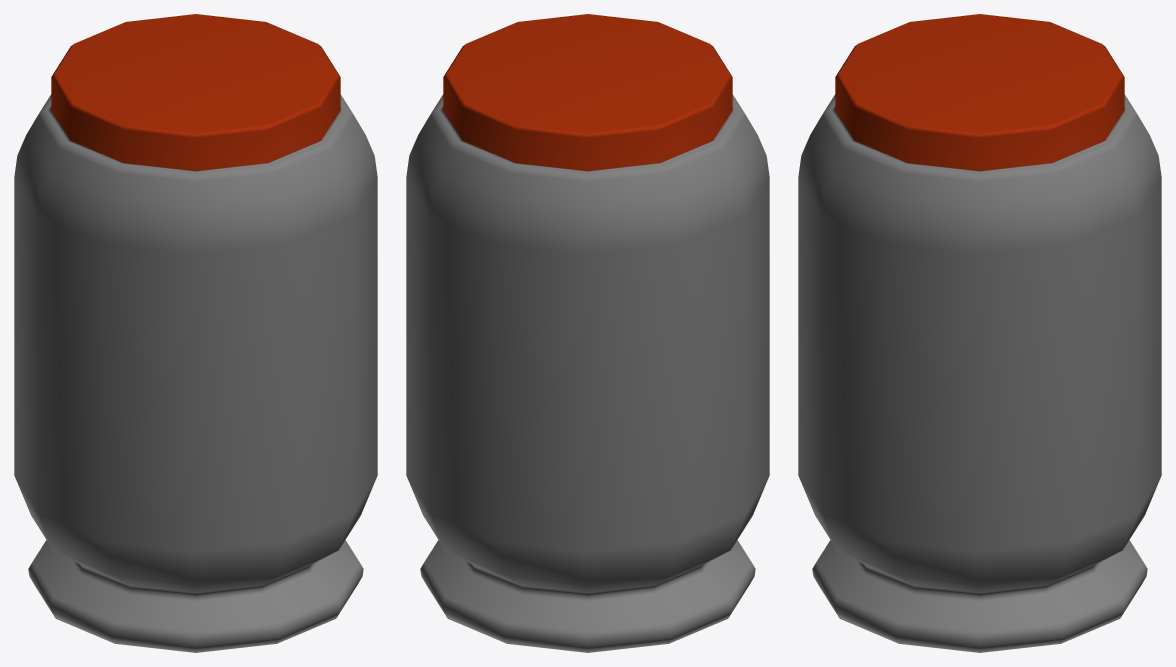
Rendered from SM_Jar_2.fbx.
3 renders of one model, left to right at view 1: azimuth 30°, elevation 25°; view 2: azimuth 150°, elevation 25°; view 3: azimuth 270°, elevation 25°, orthographic.
Visible parts, largest first — view 1: pCylinder2; view 2: pCylinder2; view 3: pCylinder2.
Part boxes in pixels (<box>): pCylinder2: <box>14,14,377,652</box>; pCylinder2: <box>406,14,769,652</box>; pCylinder2: <box>798,14,1161,652</box>.
Size of the model in its own units: 0.2456 by 0.3811 by 0.2456.
